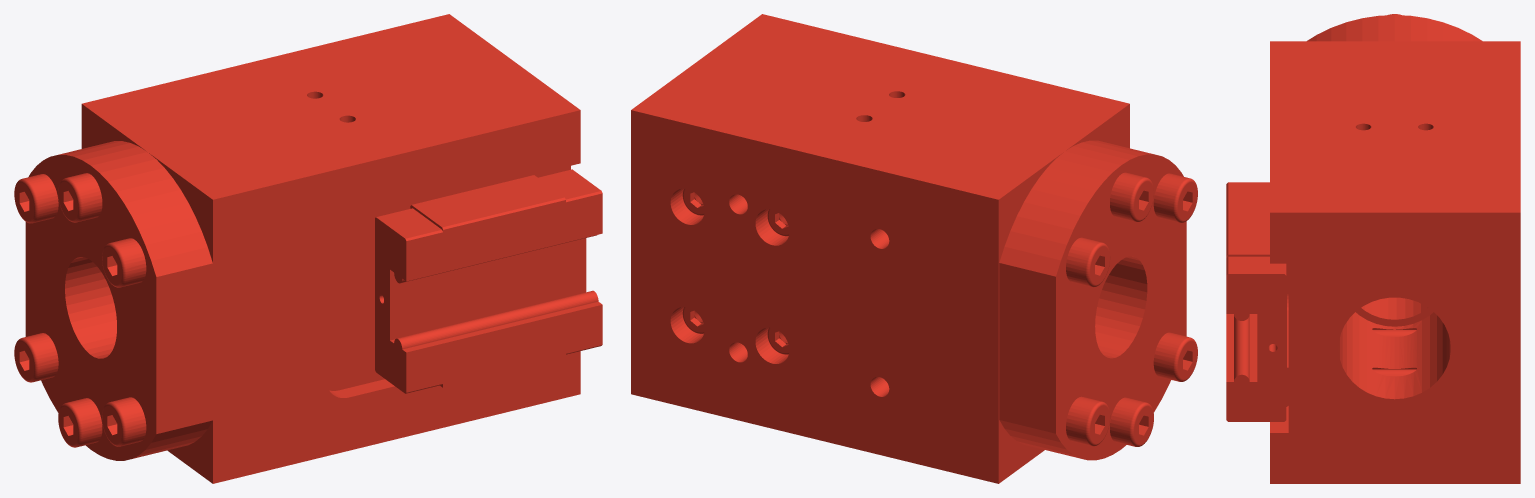
Rendered from actuator_support.dae.
3 renders of one model, left to right at view 1: azimuth 30°, elevation 25°; view 2: azimuth 150°, elevation 25°; view 3: azimuth 270°, elevation 25°, orthographic. The views are drawn at different scales.
Parts seen in each view (by area): view 1: Actuator_support; view 2: Actuator_support; view 3: Actuator_support.
Boxes of the visible parts, x1,y1,x2,y2 form: Actuator_support: [14, 14, 602, 483]; Actuator_support: [631, 14, 1197, 483]; Actuator_support: [1226, 14, 1520, 483].
Bounding box in the file's own units: 79 × 47.2 × 48.
